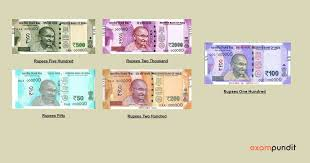fiveHundred: (14, 23, 90, 49)
